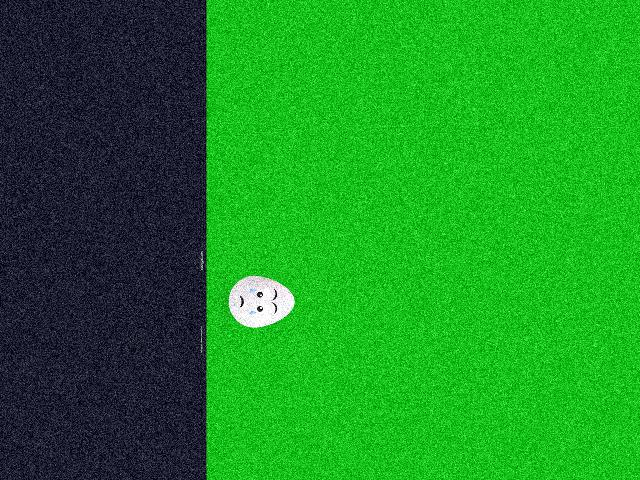egg: (228, 275, 294, 327)
